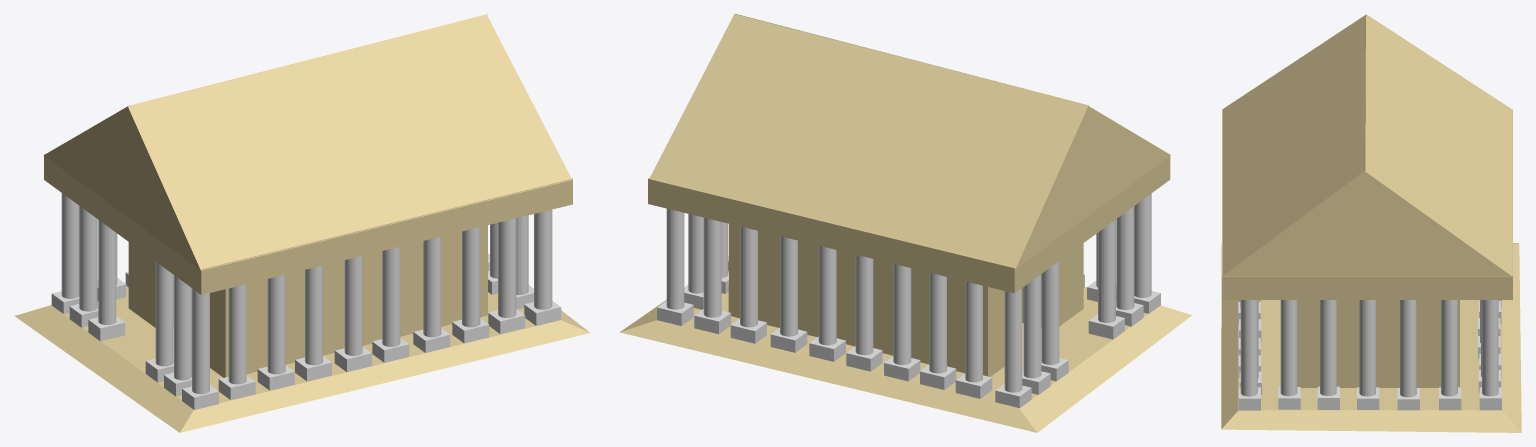
File: Greek_Mausoleum_compressed.glb
3 renders of one model, left to right at view 1: azimuth 30°, elevation 25°; view 2: azimuth 150°, elevation 25°; view 3: azimuth 270°, elevation 25°, orthographic. The views are drawn at different scales.
Visible parts, largest first — view 1: Cube.002; view 2: Cube.002; view 3: Cube.002.
Boxes of the visible parts, bbox=[...] form: Cube.002: bbox=[14, 14, 589, 432]; Cube.002: bbox=[620, 14, 1191, 432]; Cube.002: bbox=[1221, 14, 1521, 432].
Size of the model in its own units: 84.36 by 51.24 by 56.43.
